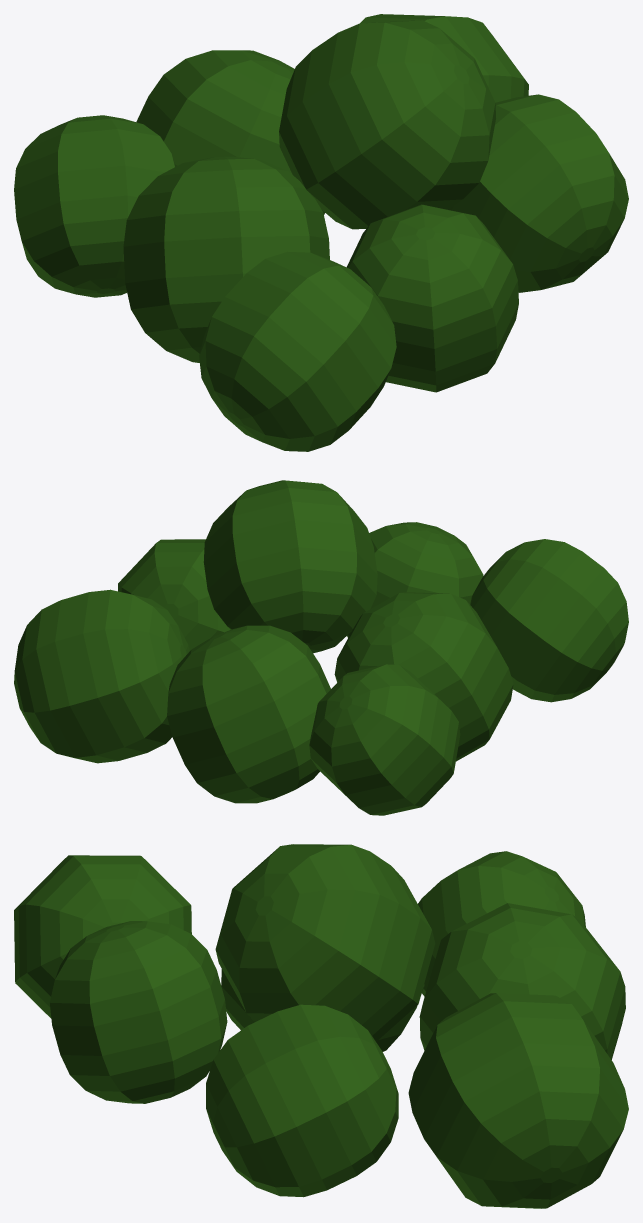
The model's file is Piile of Peppers.fbx.
The picture shows the model from 3 angles, top to bottom: view 1: azimuth 30°, elevation 25°; view 2: azimuth 150°, elevation 25°; view 3: azimuth 270°, elevation 25°; orthographic projection. The views are drawn at different scales.
Parts seen in each view (by area): view 1: Piile of Peppers; view 2: Piile of Peppers; view 3: Piile of Peppers.
Boxes of the visible parts, x1=… form: Piile of Peppers: x1=14, y1=14, x2=628, y2=451; Piile of Peppers: x1=14, y1=480, x2=628, y2=815; Piile of Peppers: x1=14, y1=844, x2=628, y2=1208.
Bounding box in the file's own units: 20.72 × 11.35 × 21.63.
